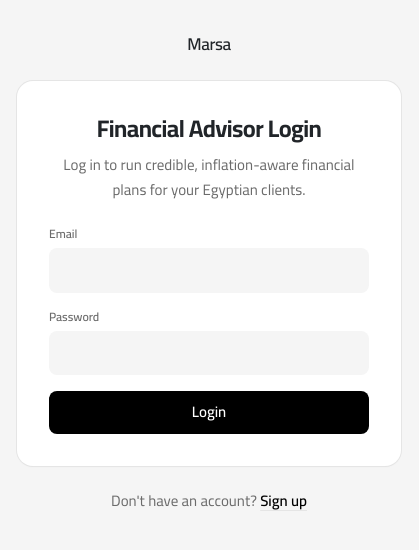
Test: Login › shows field-level validation before submit
The width and height of the screenshot is (419, 550).
Click the button "Login". click: point(209, 412)
box: [49, 391, 369, 434]
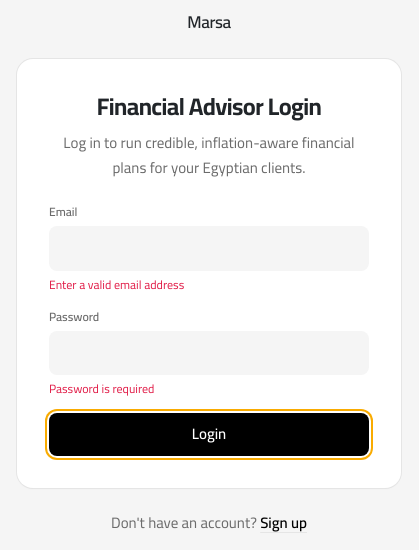
Result: the text "Enter a valid email address" is shown at [49, 273, 184, 296]
